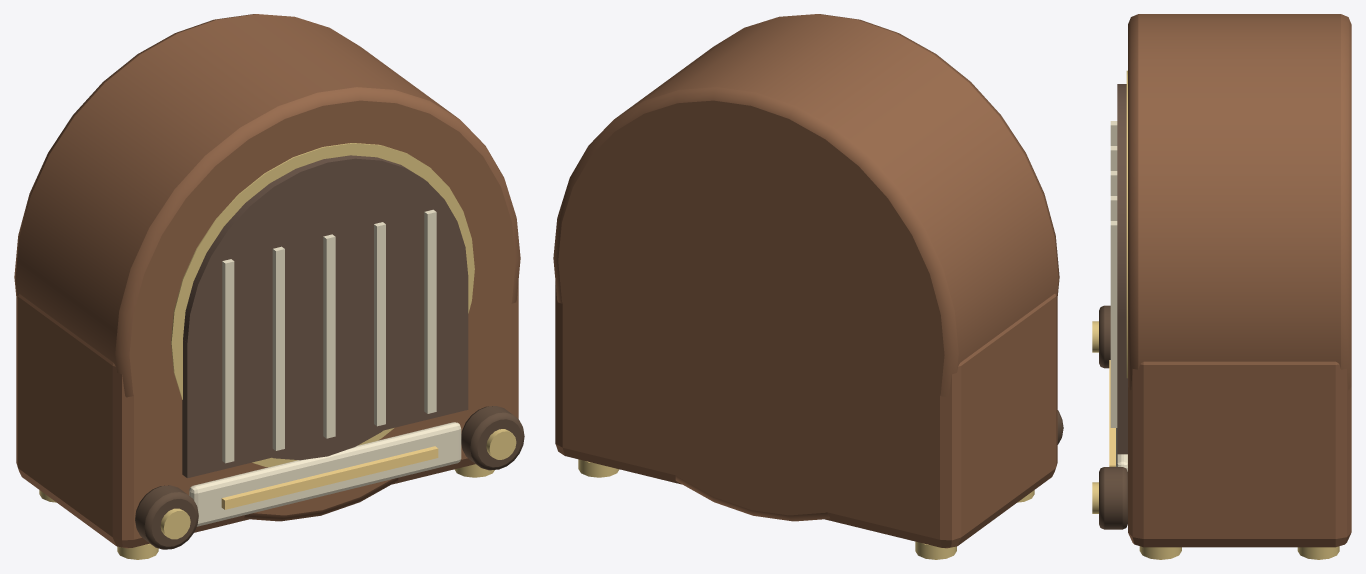
File: radio.glb
The picture shows the model from 3 angles, left to right: view 1: azimuth 30°, elevation 25°; view 2: azimuth 150°, elevation 25°; view 3: azimuth 270°, elevation 25°; orthographic projection.
Visible parts, largest first — view 1: Radio; view 2: Radio; view 3: Radio.
Part boxes in pixels (x1,y1,x2,y2): Radio: [14, 14, 524, 559]; Radio: [553, 14, 1063, 559]; Radio: [1092, 14, 1351, 559].
Size of the model in its own units: 0.36 by 0.362 by 0.197.
